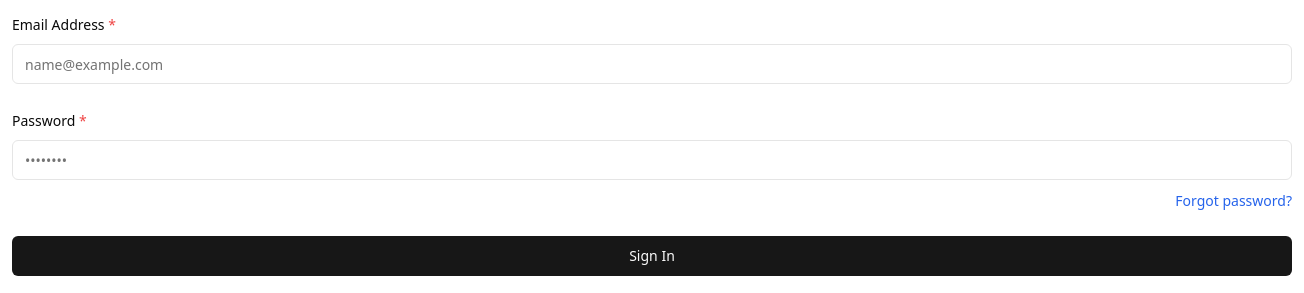
LoginForm › Edge Cases › should handle special characters in password
Click the password field labelled "Password *" at (652, 160), box [12, 140, 1292, 180]
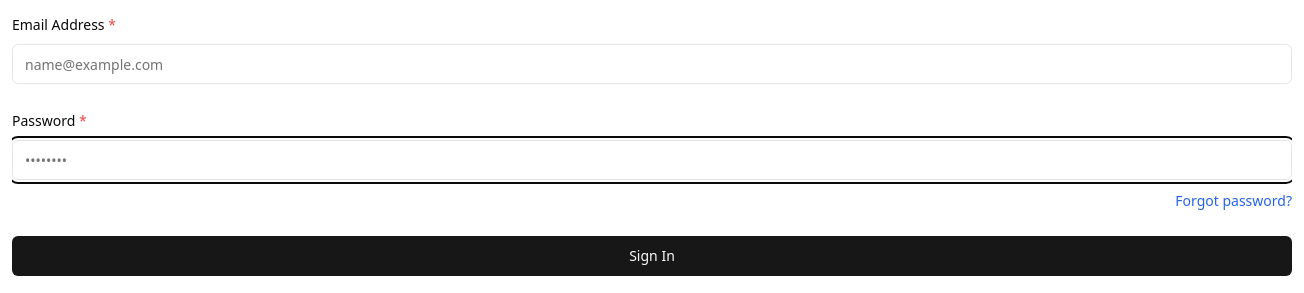
Type keys "P@$$w0rd!#%&*()[]{}|<>?"
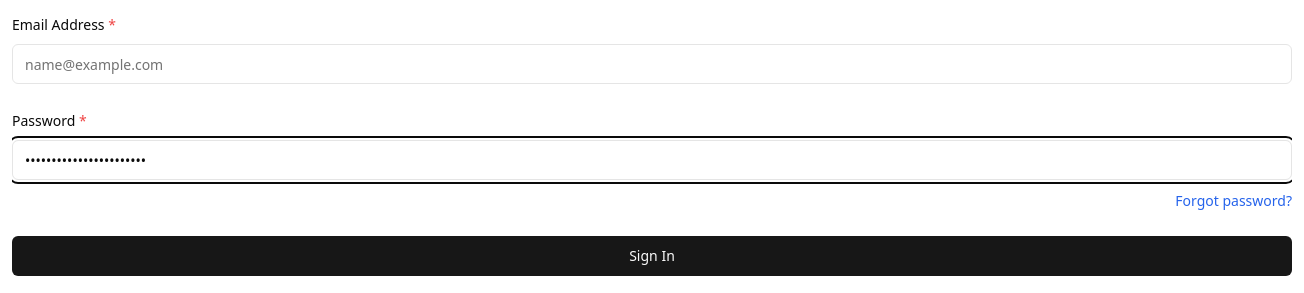
expect the password field labelled "Password *" holds "P@$$w0rd!#%&*()[]{}|<>?": met, box [12, 140, 1292, 180]
